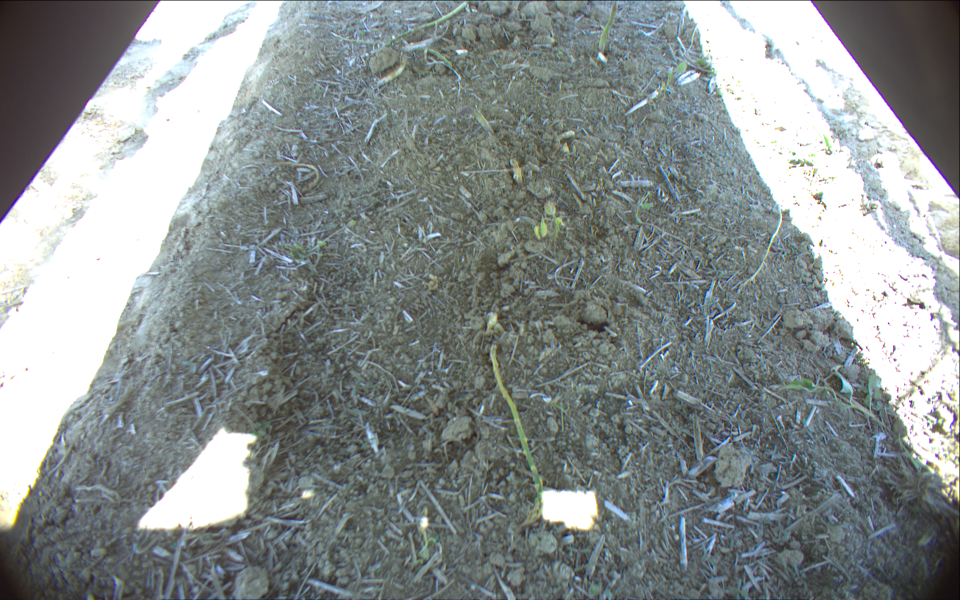aspa: (489, 342, 545, 525), (370, 1, 468, 55), (458, 105, 496, 136), (599, 1, 618, 56), (426, 47, 455, 71)
